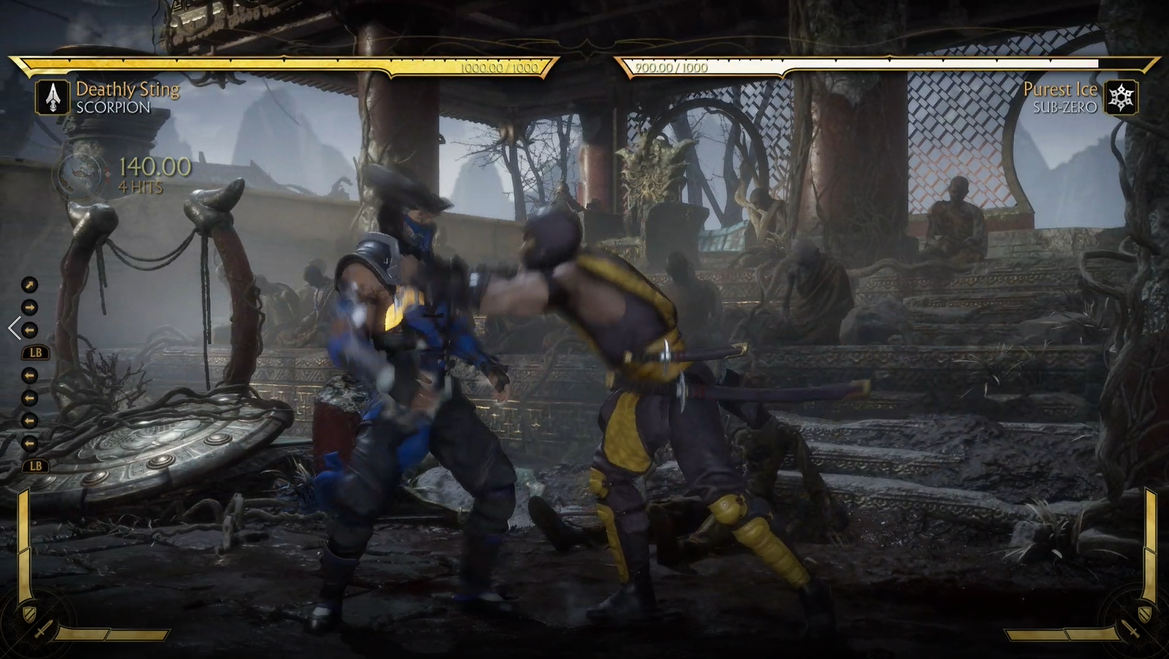grab: (280, 173, 890, 630)
